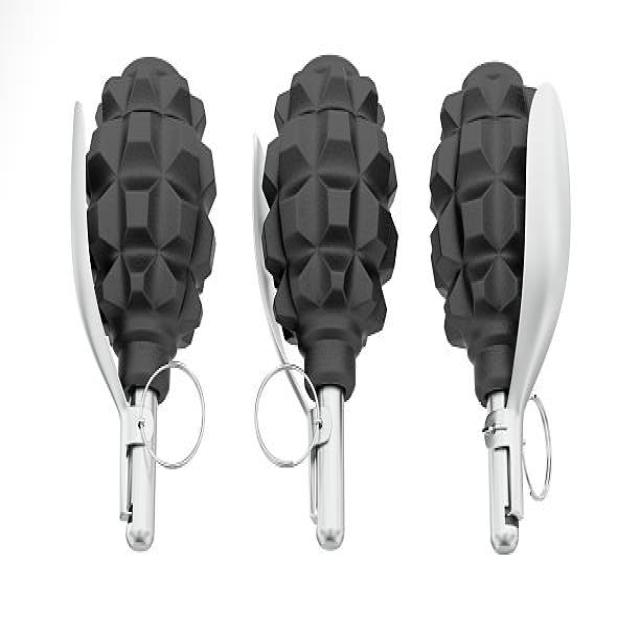grenade: (62, 43, 224, 571), (421, 59, 578, 574), (250, 54, 404, 560)
